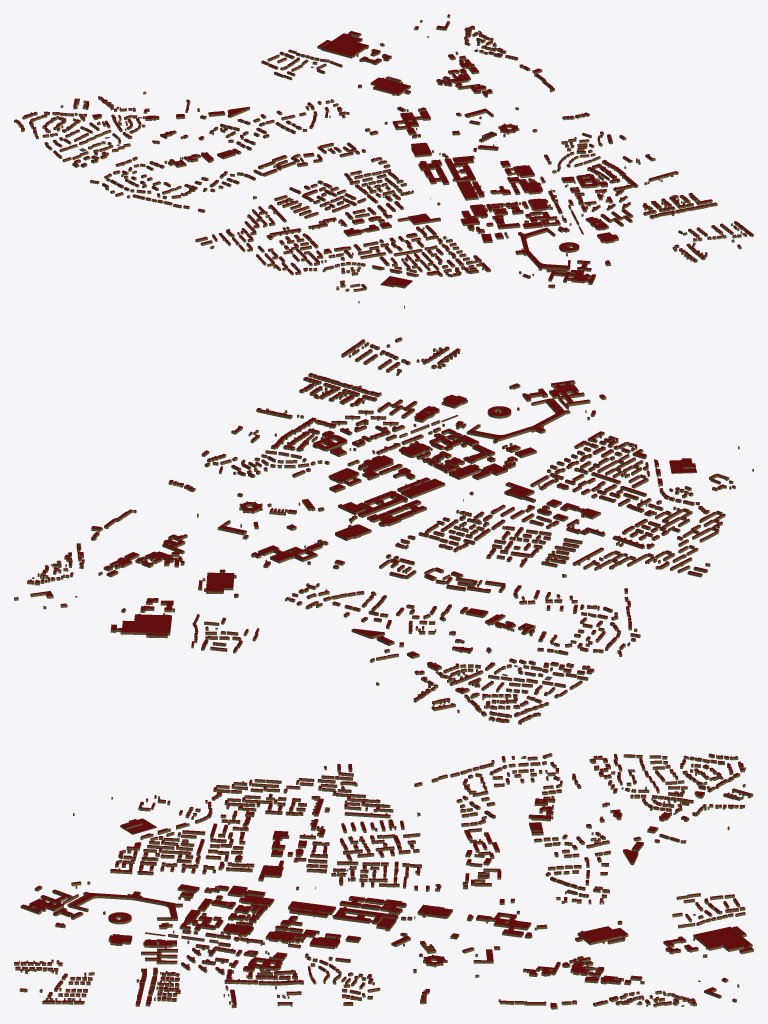
3 views of the same model, one above another, from view 1: azimuth 30°, elevation 25°; view 2: azimuth 150°, elevation 25°; view 3: azimuth 270°, elevation 25° (orthographic). The views are drawn at different scales.
Visible parts, largest first — view 1: Building Packaging Works, Building1261, Building4; view 2: Building Packaging Works, Building1261, Building7, Building4, Building8; view 3: Building Packaging Works, Building1261, Building7, Building4, Building8, Building9, Building Packaging Works (Huhtamaki UK Ltd), Building6, Building12, Building336, Building329.
Part boxes in pixels (left/top/right/bottom): Building Packaging Works: left=321, top=31, right=368, bottom=58; Building1261: left=515, top=227, right=570, bottom=270; Building4: left=392, top=111, right=430, bottom=135; Building Packaging Works: left=110, top=614, right=171, bottom=635; Building1261: left=466, top=398, right=570, bottom=443; Building7: left=367, top=500, right=426, bottom=526; Building4: left=258, top=543, right=322, bottom=563; Building8: left=357, top=490, right=407, bottom=517; Building Packaging Works: left=693, top=926, right=753, bottom=954; Building1261: left=69, top=891, right=182, bottom=920; Building7: left=339, top=896, right=406, bottom=914; Building4: left=476, top=912, right=531, bottom=937; Building8: left=332, top=906, right=398, bottom=924; Building9: left=20, top=889, right=72, bottom=914; Building Packaging Works (Huhtamaki UK Ltd): left=577, top=926, right=628, bottom=945; Building6: left=288, top=901, right=335, bottom=918; Building12: left=179, top=909, right=223, bottom=931; Building336: left=265, top=929, right=319, bottom=943; Building329: left=141, top=948, right=177, bottom=964.
Bounding box in the file's own units: 1718 × 10 × 2112.
